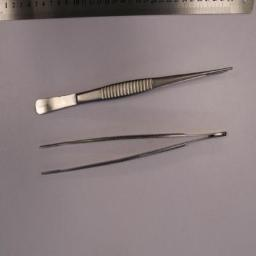DeBakey Dissector: (36, 67, 232, 115), (40, 132, 226, 174)
